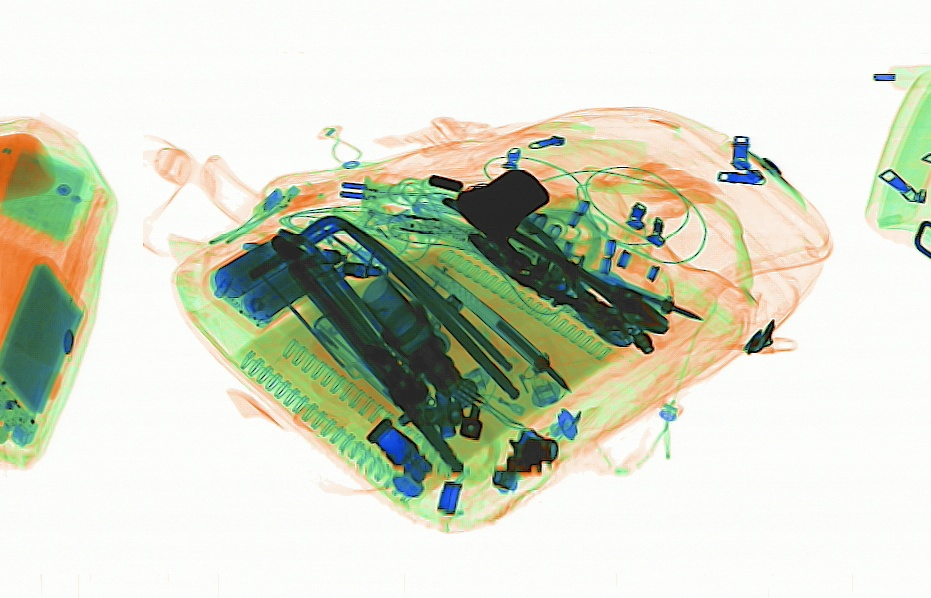powerbank: (198, 226, 337, 338)
